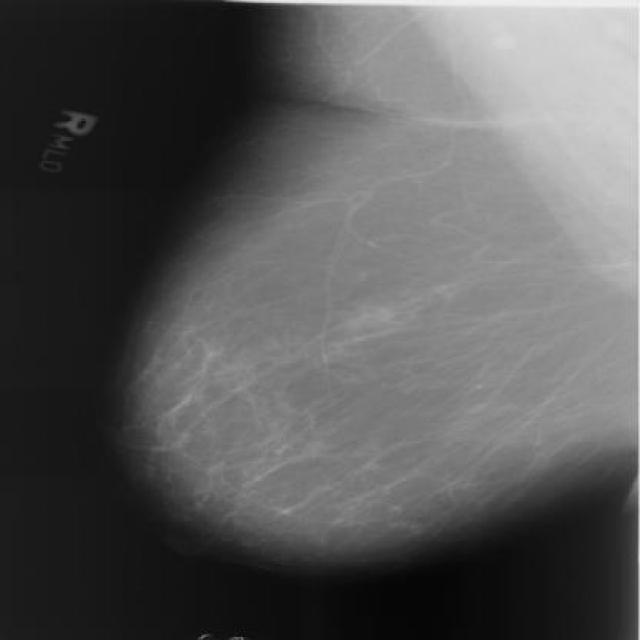tumor: (170, 314, 416, 513)
